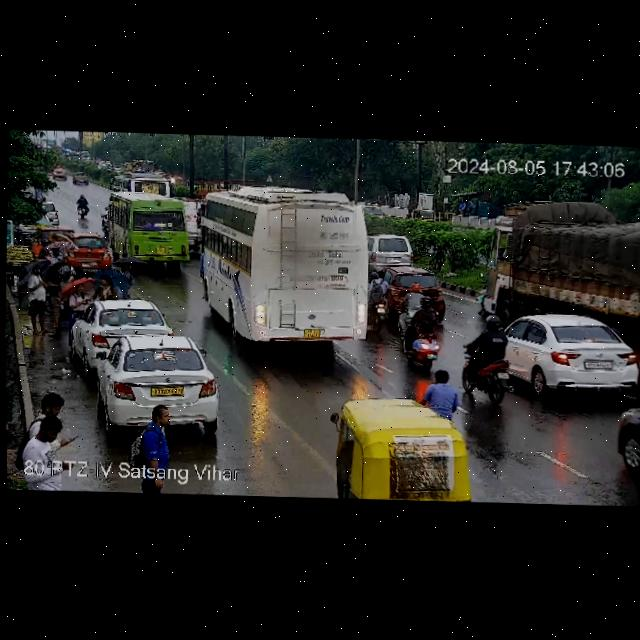bus: (195, 180, 385, 354), (104, 189, 192, 269), (109, 172, 173, 193)
car: (324, 389, 478, 503), (82, 333, 226, 431), (508, 314, 640, 397), (70, 297, 169, 358), (387, 265, 448, 321), (60, 235, 114, 271), (613, 403, 640, 475), (365, 235, 414, 269), (73, 170, 89, 184), (52, 167, 67, 178)
motorcycle: (458, 307, 519, 401), (397, 280, 452, 355), (463, 355, 518, 404), (421, 368, 461, 420), (366, 270, 388, 333), (77, 192, 89, 217), (100, 206, 109, 234)
person: (132, 405, 173, 469), (22, 391, 67, 436), (23, 264, 51, 336), (23, 416, 63, 462), (50, 265, 72, 338), (69, 280, 87, 322), (90, 274, 115, 302), (116, 261, 135, 296), (31, 236, 44, 259), (40, 238, 50, 259), (50, 247, 60, 265), (49, 234, 59, 242)
truck: (477, 213, 640, 327), (122, 156, 142, 172)
